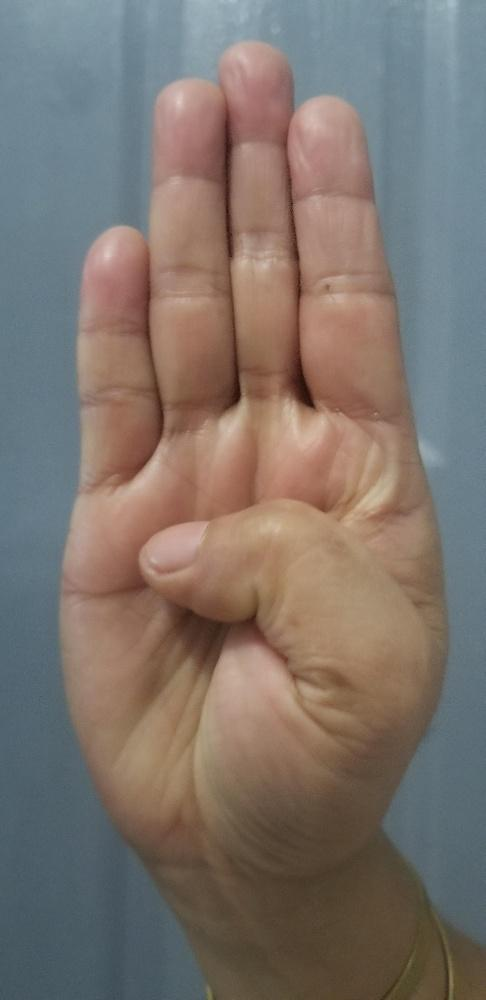b: (54, 37, 449, 855)
